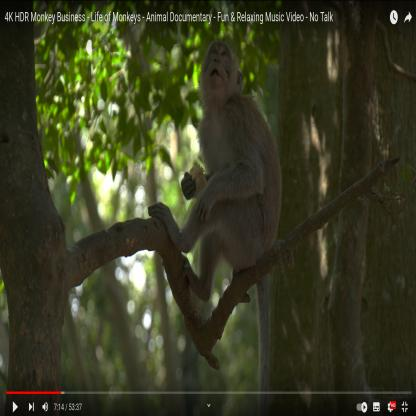monkey: (146, 36, 284, 305)
